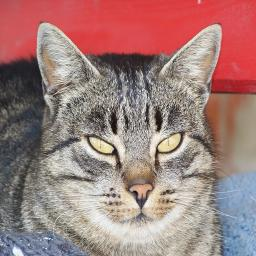catnose: (128, 182, 154, 210)
